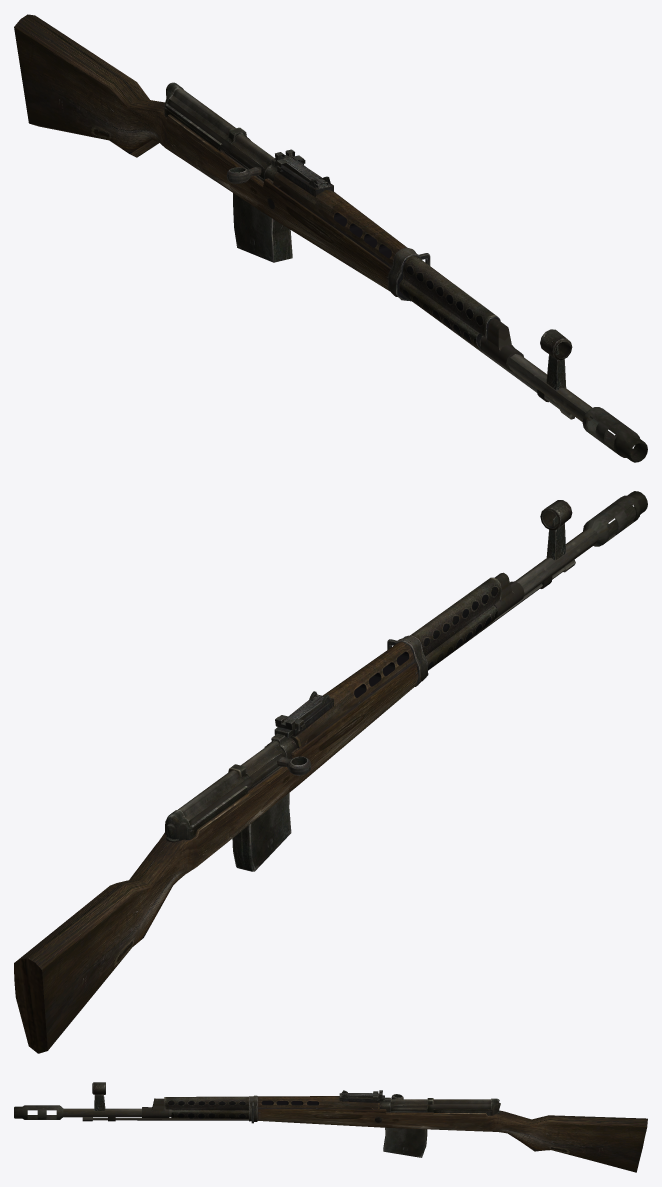
File: SVT-40.fbx
3 renders of one model, top to bottom at view 1: azimuth 30°, elevation 25°; view 2: azimuth 150°, elevation 25°; view 3: azimuth 270°, elevation 25°, orthographic. The views are drawn at different scales.
Parts seen in each view (by area): view 1: body, mag, bolt, front_sight; view 2: body, mag, bolt, front_sight; view 3: body, mag, bolt, front_sight.
Boxes of the visible parts, box(x1,y1,x2,y2) form: body: box(14, 14, 647, 462); mag: box(233, 193, 292, 262); bolt: box(220, 133, 273, 183); front_sight: box(540, 329, 572, 390); body: box(14, 491, 647, 1053); mag: box(232, 793, 291, 871); bolt: box(241, 740, 311, 788); front_sight: box(540, 500, 572, 560); body: box(14, 1090, 647, 1172); mag: box(383, 1127, 427, 1157); bolt: box(390, 1094, 426, 1110); front_sight: box(92, 1082, 105, 1110).
Bounding box in the file's own units: 6.22 × 16.84 × 108.
Materials: 1 (1 with a texture image).
